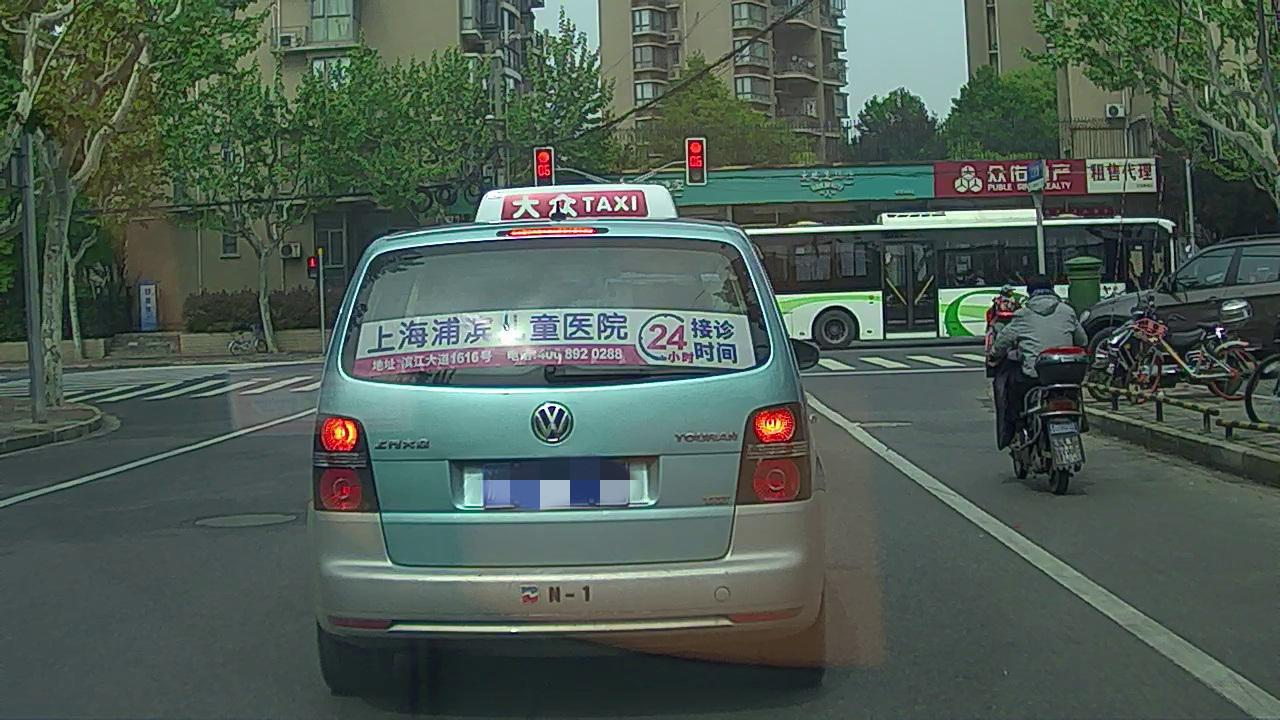traffic_light: (688, 138, 704, 183), (537, 148, 553, 187)
